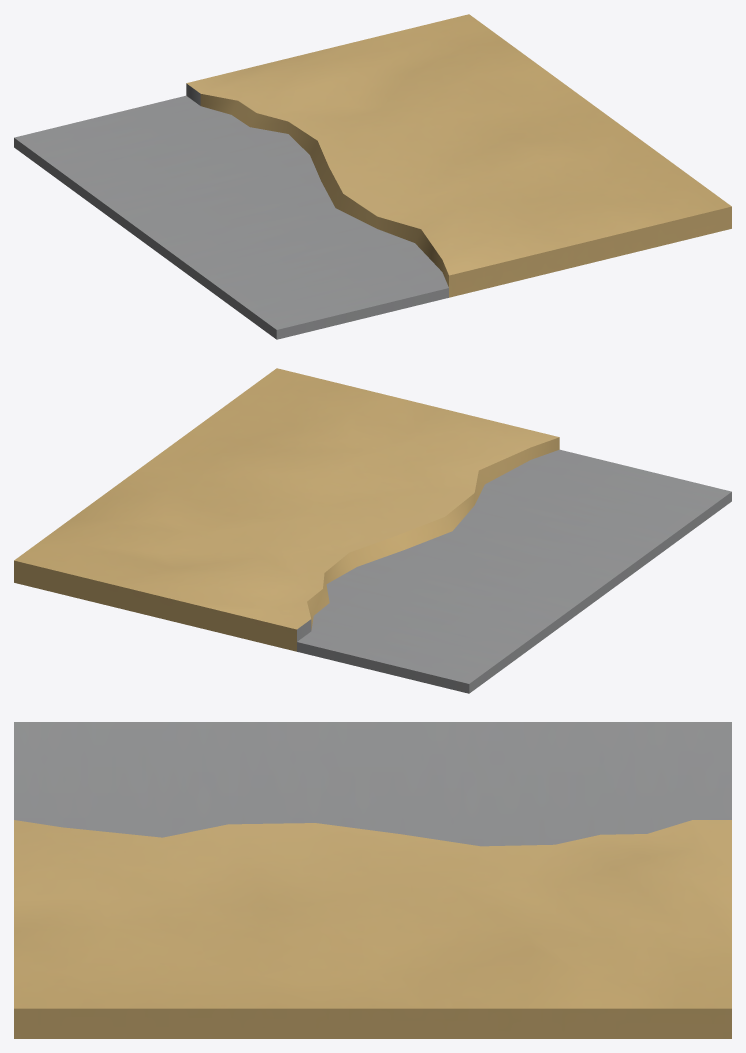
File: ground_road_2_R.glb
3 views of the same model, one above another, from view 1: azimuth 30°, elevation 25°; view 2: azimuth 150°, elevation 25°; view 3: azimuth 270°, elevation 25° (orthographic). The views are drawn at different scales.
Parts seen in each view (by area): view 1: ground_road_2_R; view 2: ground_road_2_R; view 3: ground_road_2_R.
Boxes of the visible parts, x1,y1,x2,y2 form: ground_road_2_R: (14,14,731,339); ground_road_2_R: (14,368,731,693); ground_road_2_R: (14,722,731,1038).
Bounding box in the file's own units: 2 × 0.1193 × 2.
1 material, 1 textured.
